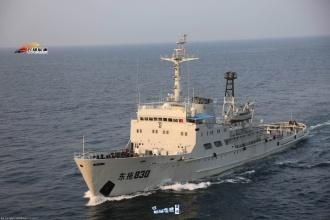warship: (77, 40, 311, 198)
